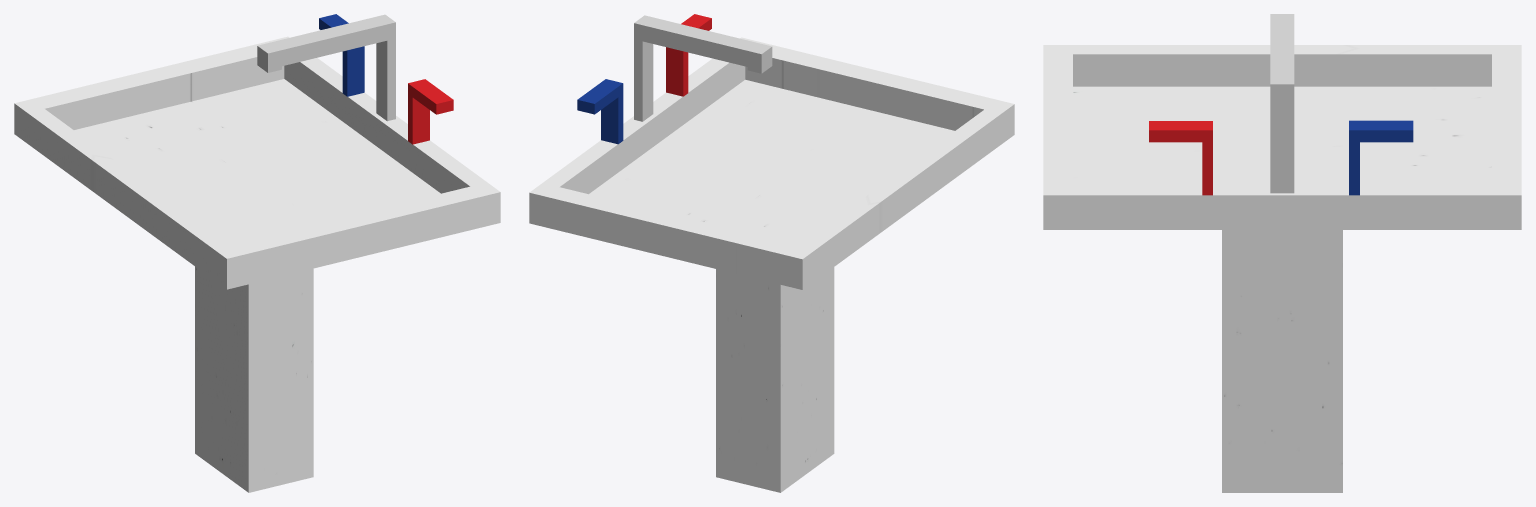
The model's file is Sink.fbx.
3 renders of one model, left to right at view 1: azimuth 30°, elevation 25°; view 2: azimuth 150°, elevation 25°; view 3: azimuth 270°, elevation 25°, orthographic. The views are drawn at different scales.
Visible parts, largest first — view 1: Base, Facuet, Handle Hot, Handle Cold; view 2: Base, Facuet, Handle Cold, Handle Hot; view 3: Base, Facuet, Handle Cold, Handle Hot.
Boxes of the visible parts, x1,y1,x2,y2 form: Base: [14, 36, 500, 492]; Facuet: [257, 14, 395, 121]; Handle Hot: [408, 79, 453, 144]; Handle Cold: [319, 14, 364, 96]; Base: [529, 37, 1014, 492]; Facuet: [634, 15, 772, 121]; Handle Cold: [577, 79, 623, 144]; Handle Hot: [666, 14, 711, 96]; Base: [1043, 45, 1521, 492]; Facuet: [1270, 14, 1294, 193]; Handle Cold: [1349, 120, 1413, 195]; Handle Hot: [1149, 121, 1212, 195].
Bounding box in the file's own units: 588 × 849 × 791.
